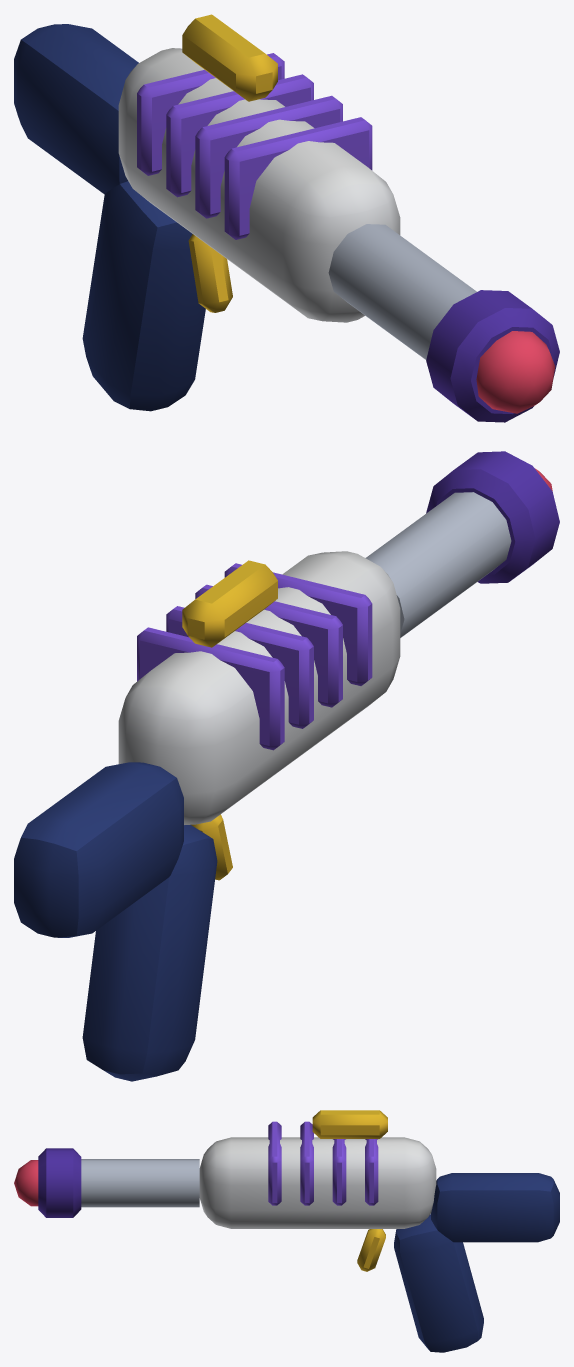
The model's file is w_a_laser.glb.
3 views of the same model, one above another, from view 1: azimuth 30°, elevation 25°; view 2: azimuth 150°, elevation 25°; view 3: azimuth 270°, elevation 25° (orthographic). The views are drawn at different scales.
Parts seen in each view (by area): view 1: body; view 2: body; view 3: body.
Part boxes in pixels (x1,y1,x2,y2): body: (14,14,559,422); body: (14,451,559,1081); body: (14,1110,559,1352).
Bounding box in the file's own units: 0.1445 × 0.4135 × 0.8628.
